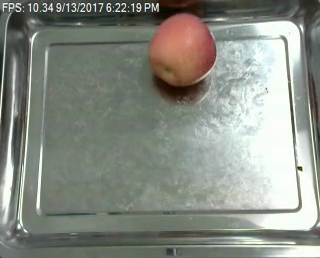Apple: (146, 10, 218, 91)
